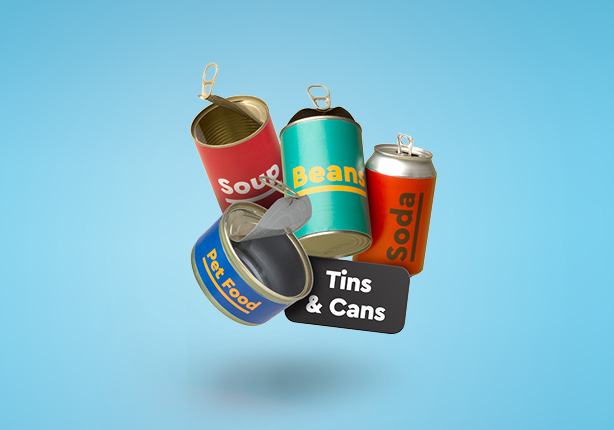cylinder: (191, 200, 313, 326), (279, 115, 372, 258), (190, 95, 284, 214), (365, 144, 437, 277)
